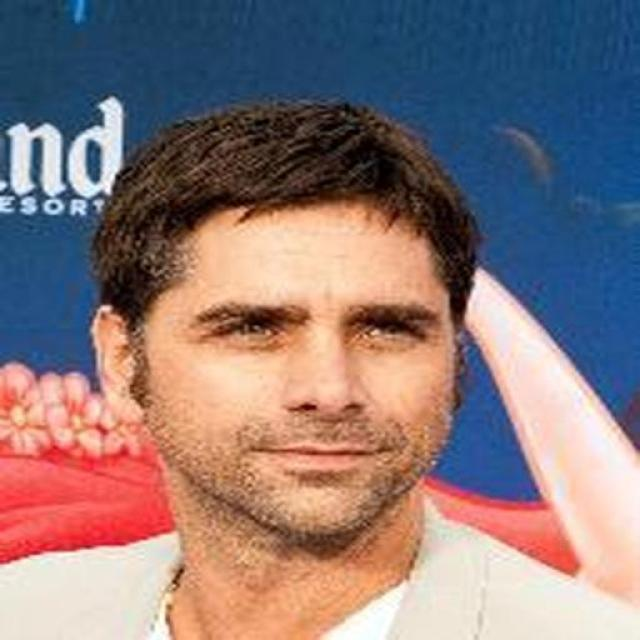bareface: (110, 150, 472, 543)
